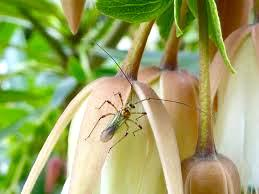Helopeltis-insect: (100, 99, 135, 146)
